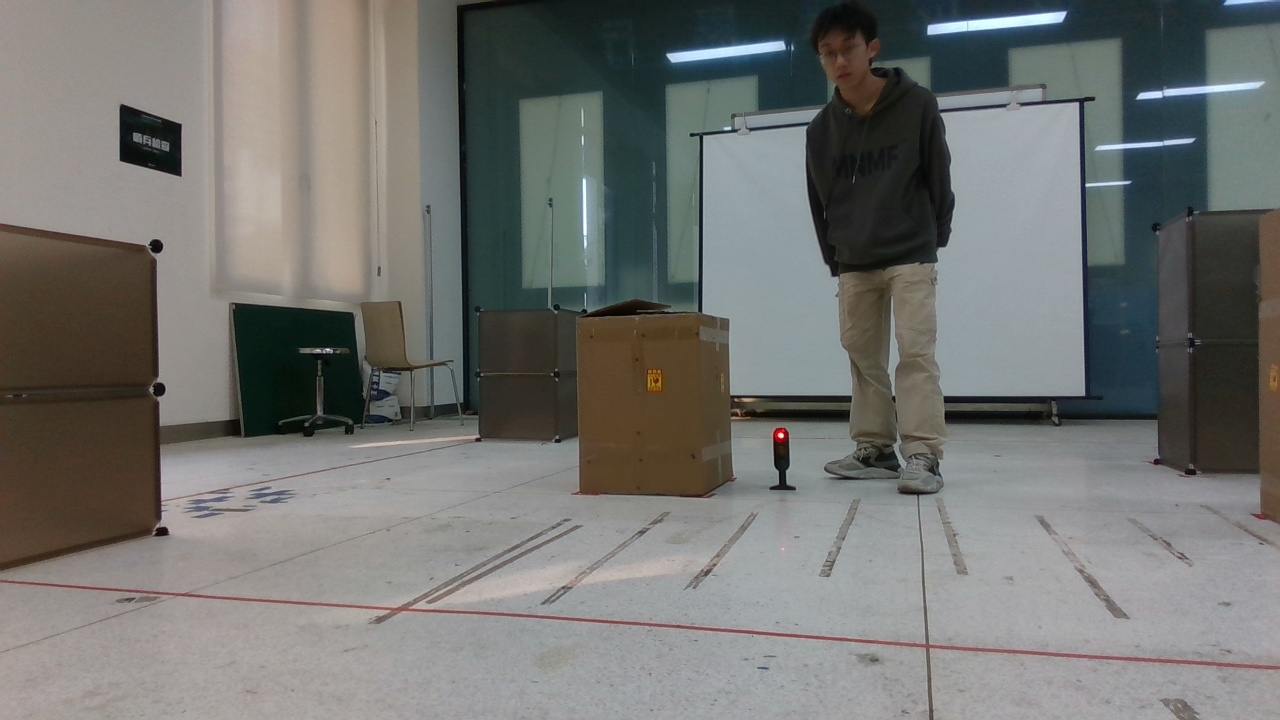red_light: (763, 422, 803, 496)
